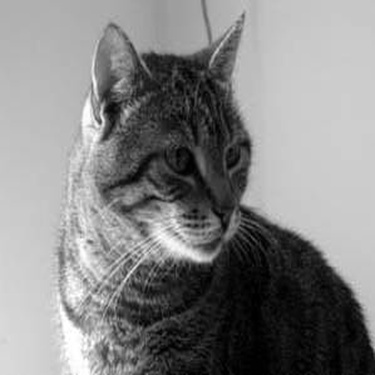cat: (40, 3, 365, 368)
